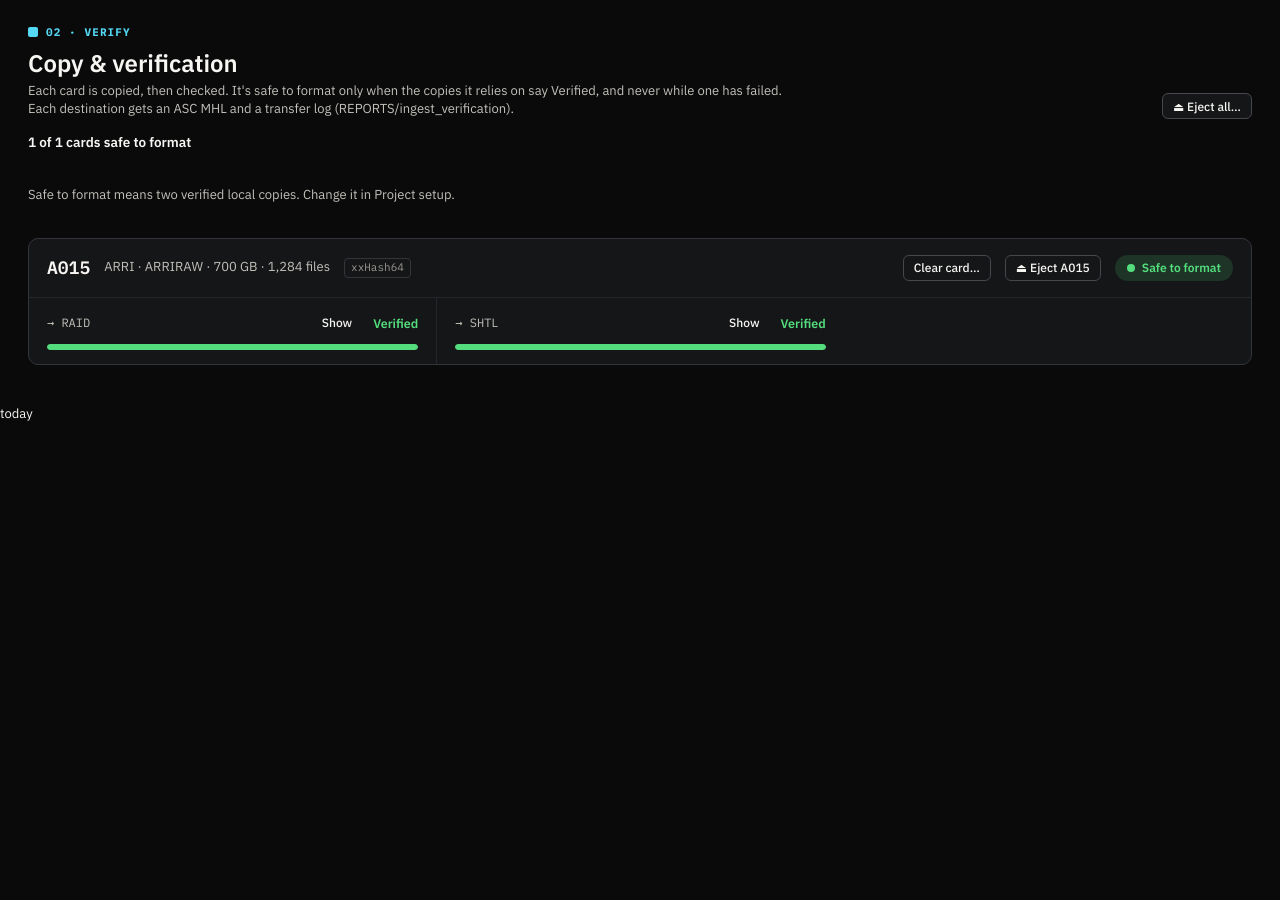
Test: clearing a card for camera › says why when the check fails, and offers no way to clear
Click the button "Clear card…": (947, 268) [903, 255, 991, 281]
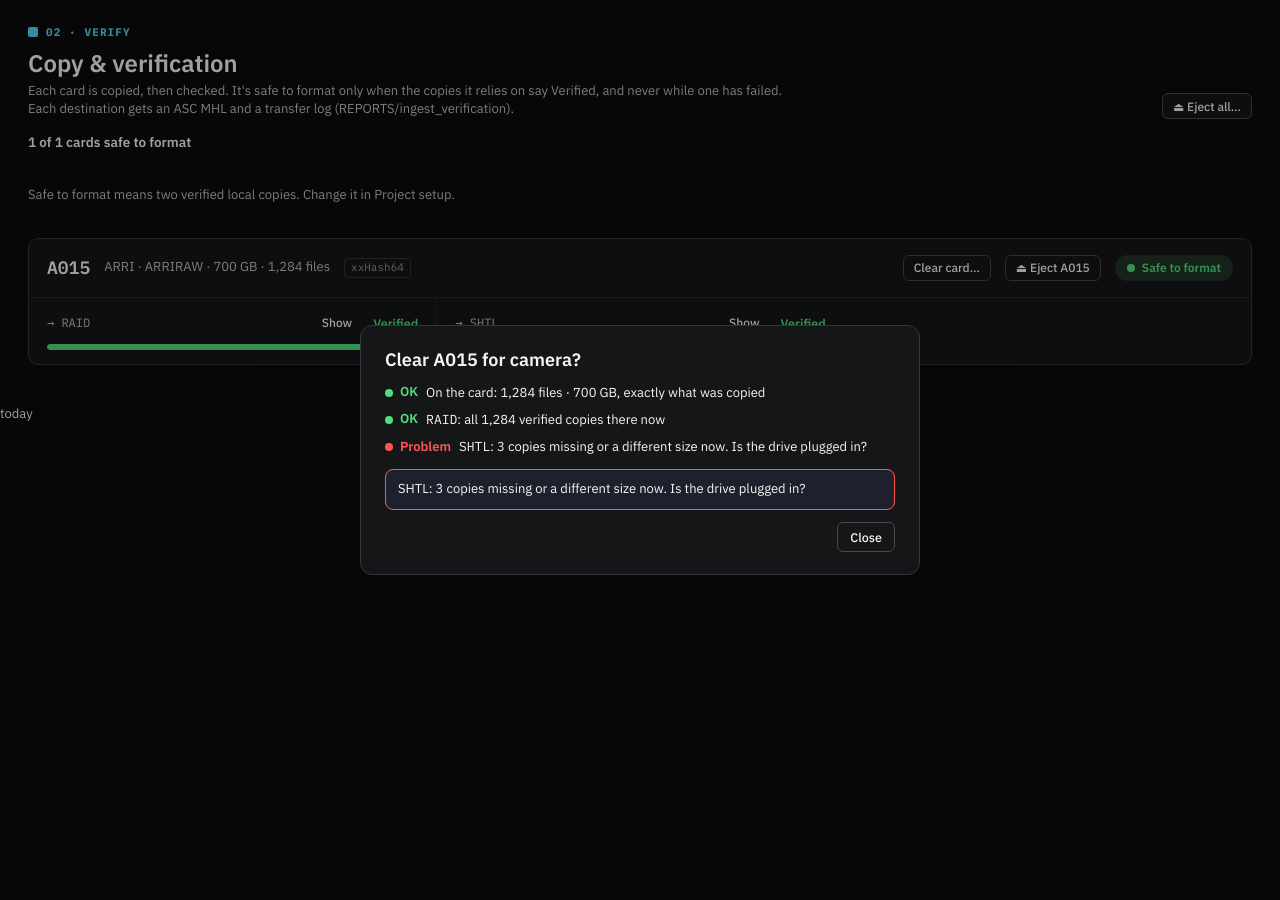
Expected: the message shows "SHTL: 3 copies missing", [398, 480, 806, 497]
